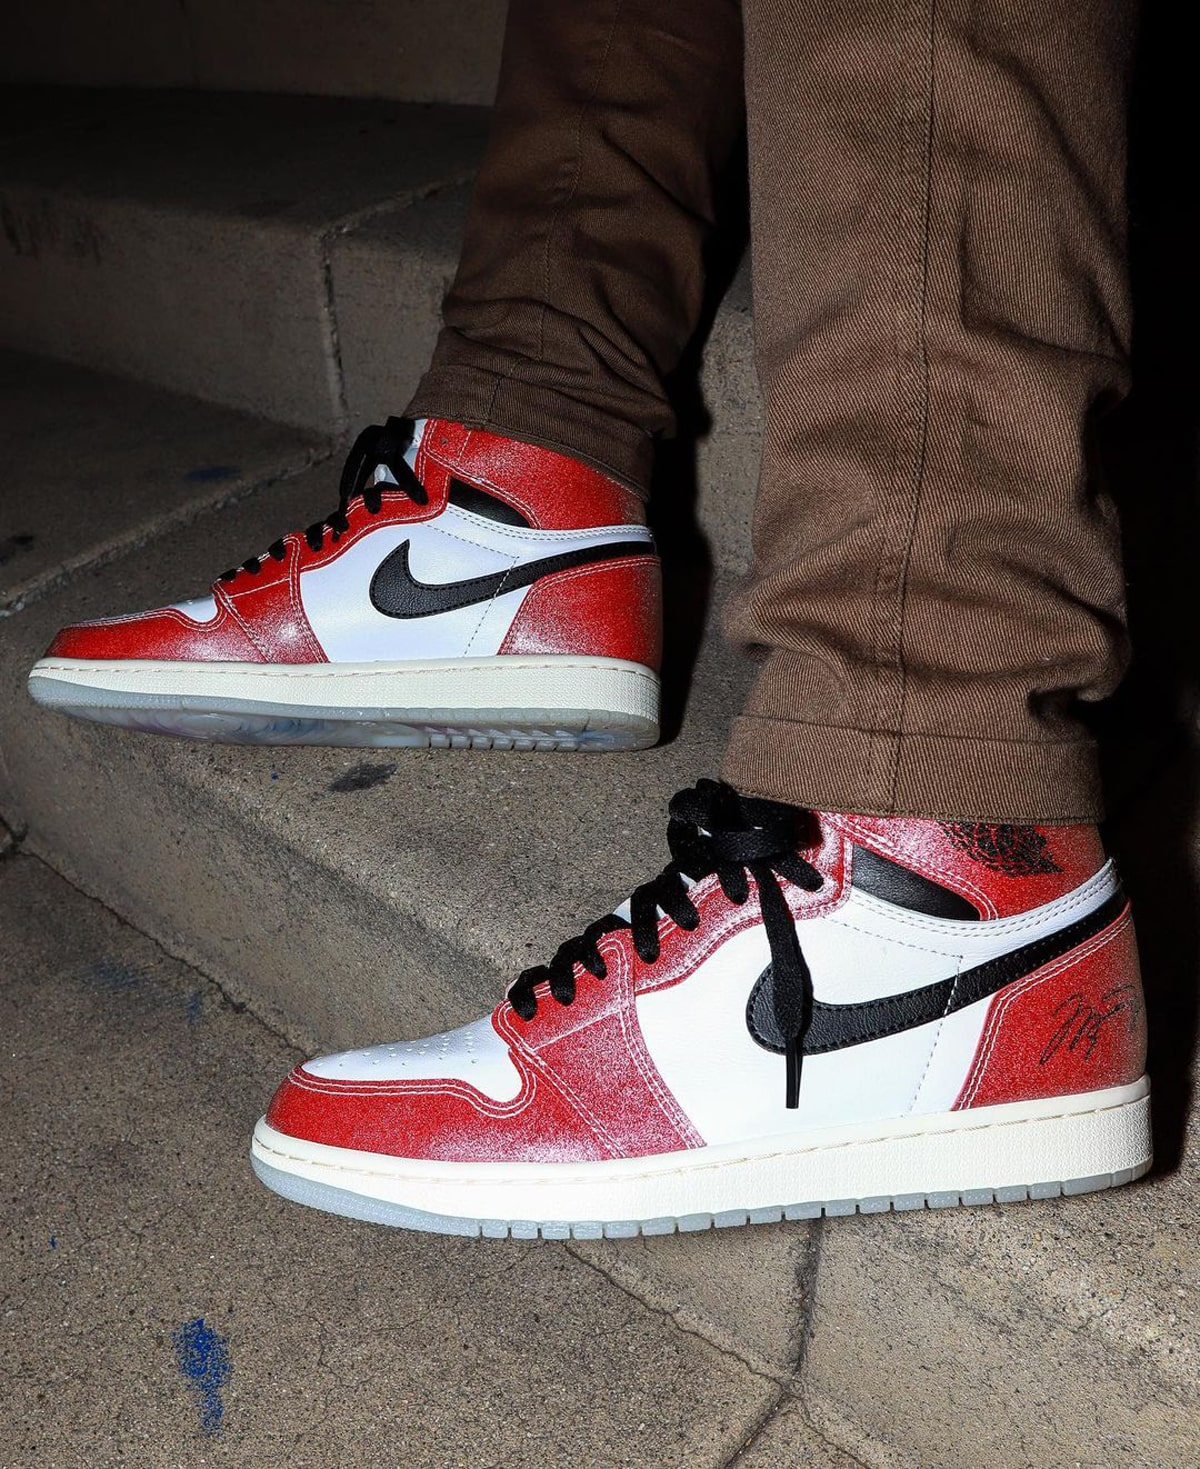Jordan 1: (247, 766, 1175, 1266), (26, 383, 675, 775)
